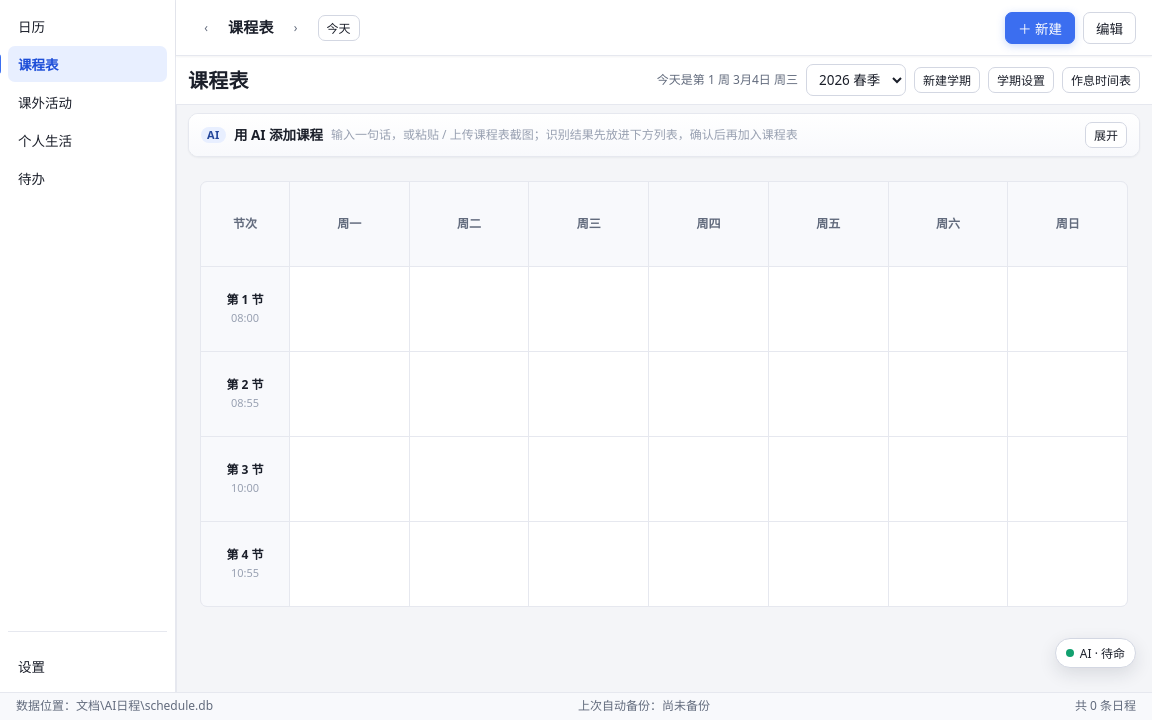
Scenario: AI 课程录入入口 › 课程表页顶部有入口，展开后能看到输入框与按钮
The width and height of the screenshot is (1152, 720).
Expected: the element with test id "ai-course-entry" is shown, [188,113,1140,157]
Click the button with test id "ai-toggle" at (1106, 135), box [1085,122,1127,148]
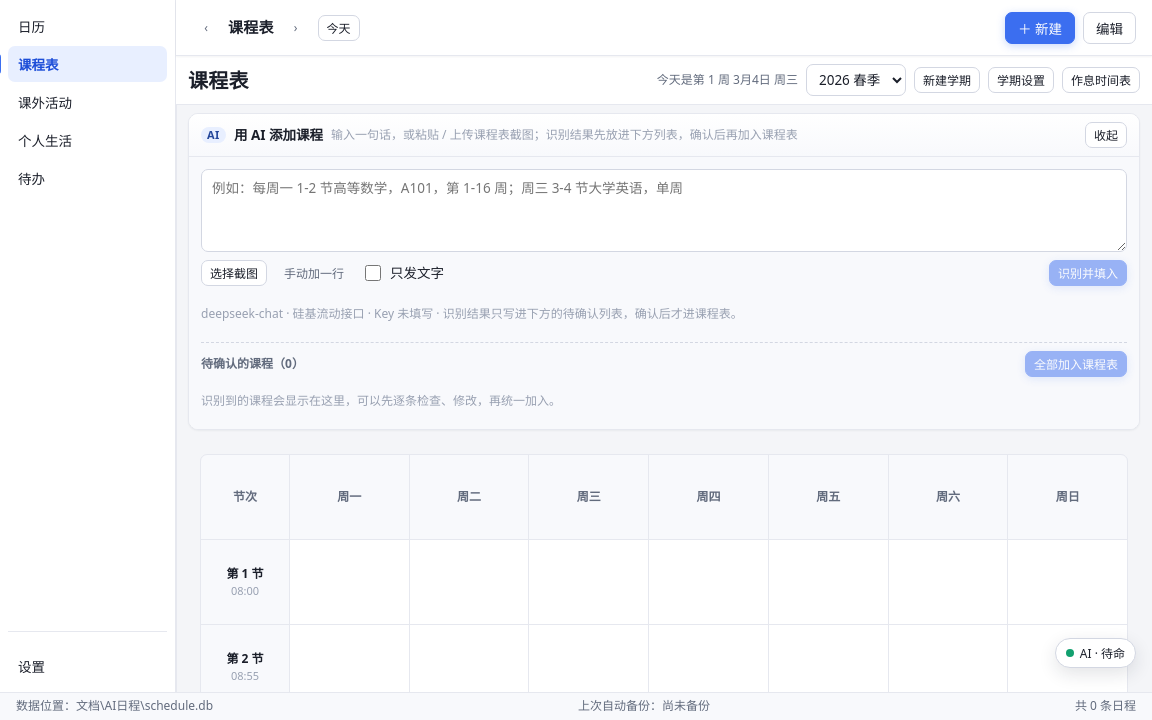
Now the text box with test id "ai-input" is shown, box [201,169,1127,252]
Now the button with test id "ai-pick-image" is shown, box [201,260,267,286]
Now the button with test id "ai-run" is shown, box [1049,260,1127,286]
